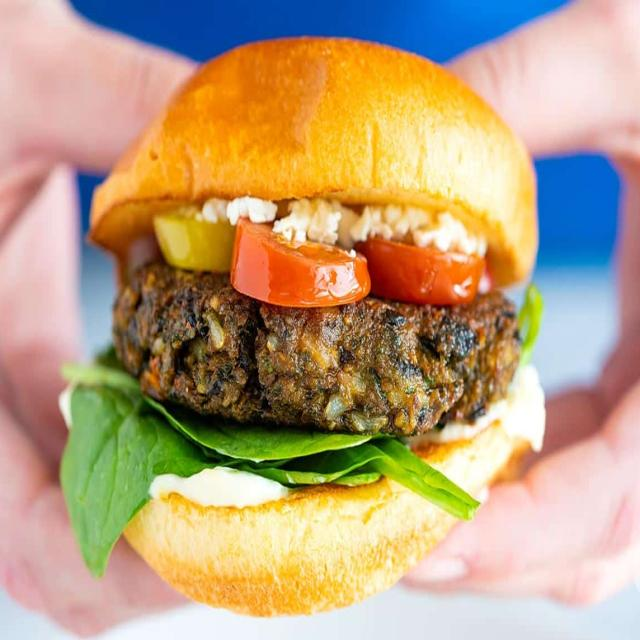burger: (56, 42, 548, 623)
